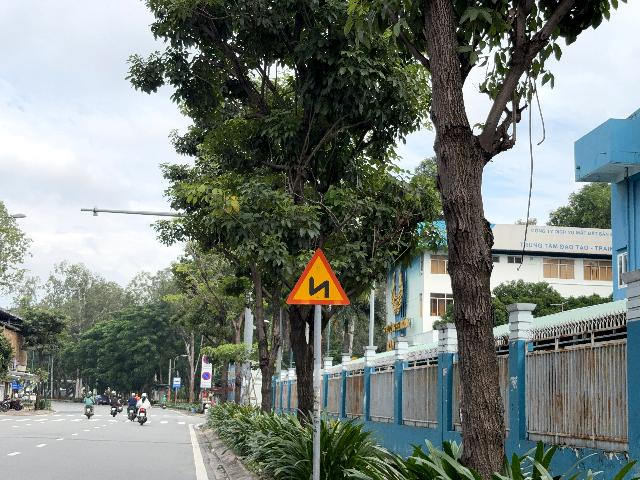nhieu-cho-ngoat-nguy-hiem-lien-tiep: (286, 248, 350, 304)
